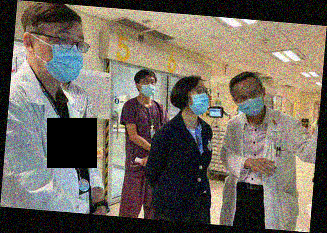with_mask: (33, 28, 85, 82), (233, 89, 265, 116), (188, 84, 211, 115), (138, 77, 158, 98)
